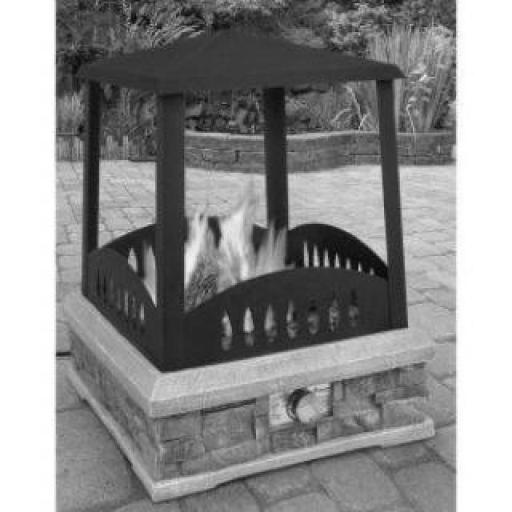smoke: (154, 180, 298, 330)
